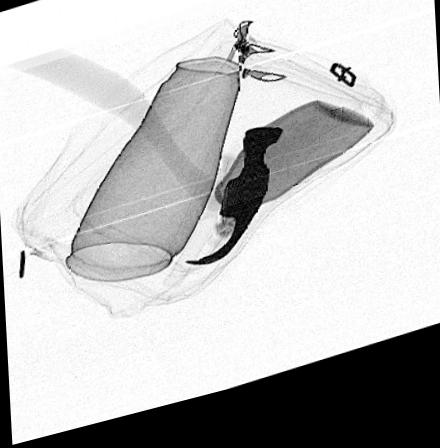Hammer: (4, 49, 282, 276)
